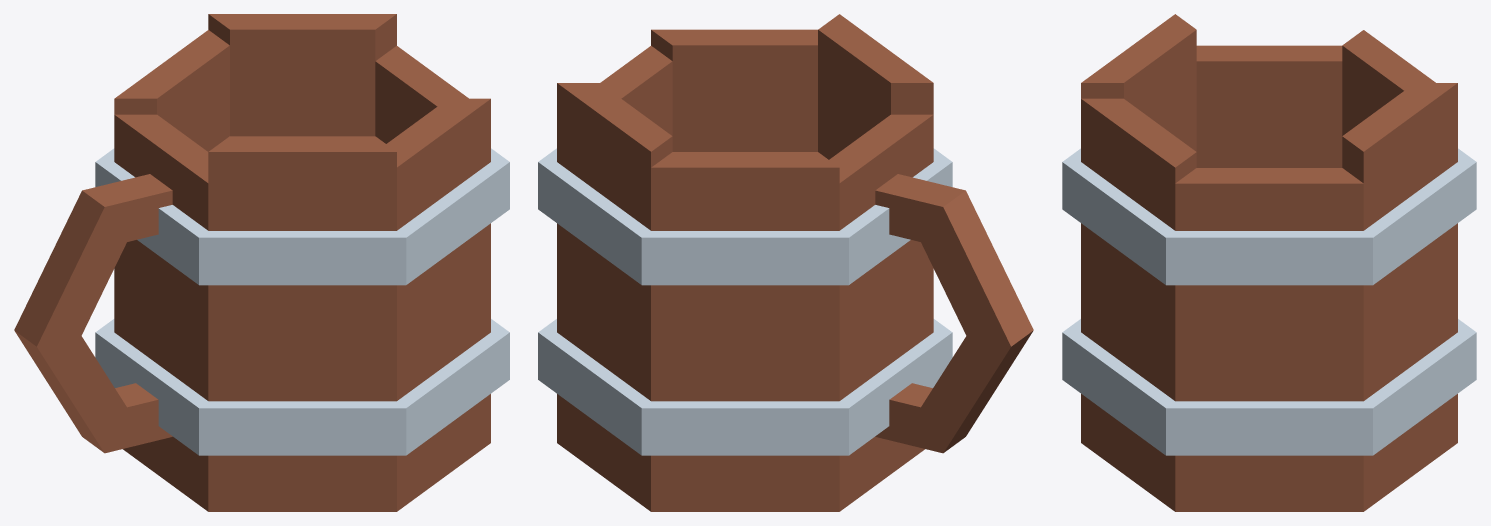
The model's file is mug.obj.
The picture shows the model from 3 angles, left to right: view 1: azimuth 30°, elevation 25°; view 2: azimuth 150°, elevation 25°; view 3: azimuth 270°, elevation 25°; orthographic projection.
Visible parts, largest first — view 1: mug; view 2: mug; view 3: mug.
Boxes of the visible parts, x1,y1,x2,y2 form: mug: [14, 14, 509, 511]; mug: [538, 14, 1033, 511]; mug: [1062, 14, 1476, 511].
Size of the model in its own units: 0.3437 by 0.2734 by 0.2851.
